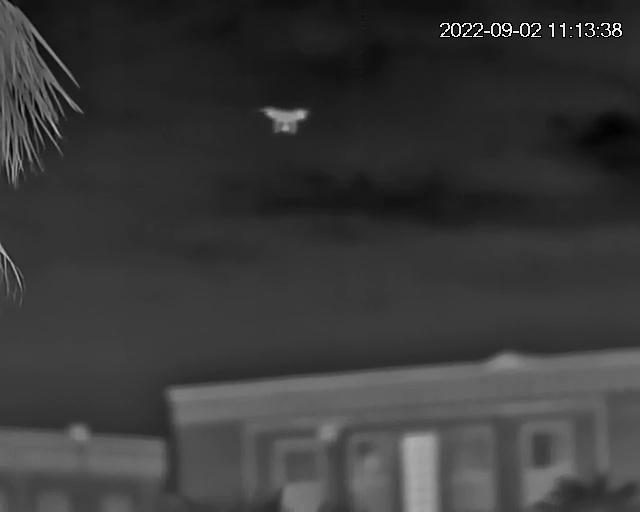DJI-Phantom: (260, 99, 311, 137)
